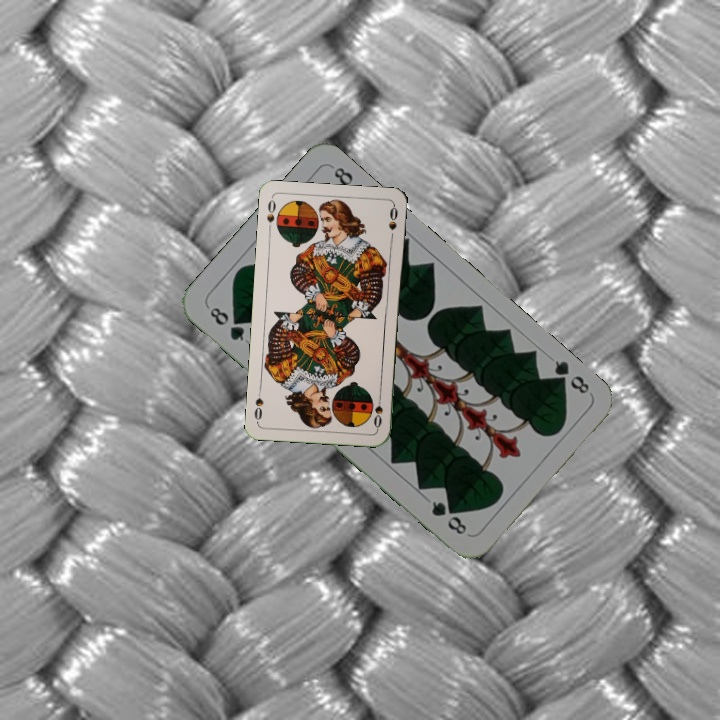G8: (205, 302, 248, 344), (548, 356, 592, 397)
SO: (370, 390, 386, 431), (262, 196, 278, 235)
